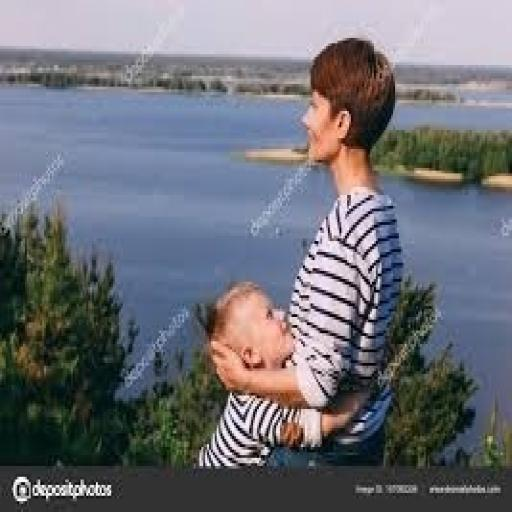hugging: (192, 36, 406, 472)
